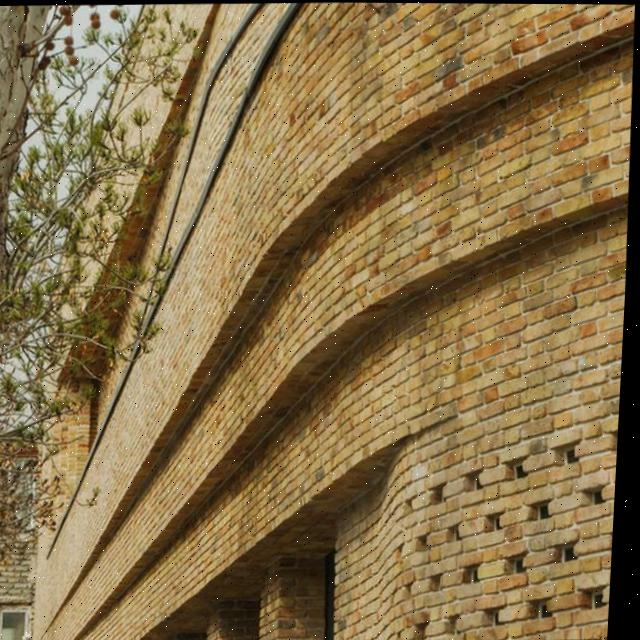building: (17, 28, 639, 640)
